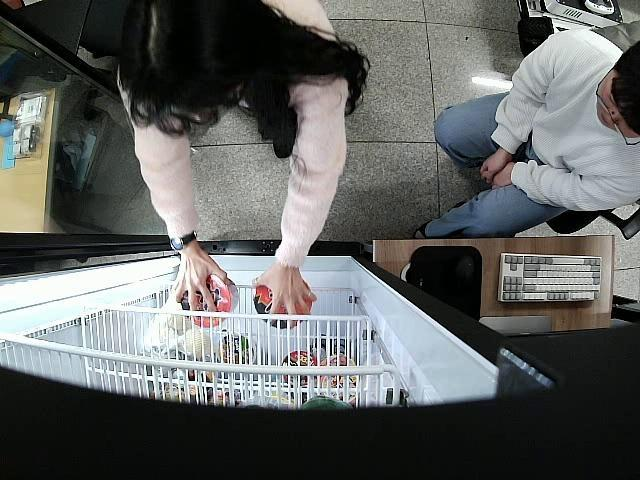01_ShinRamen_L: (182, 275, 238, 326), (255, 283, 313, 328)
